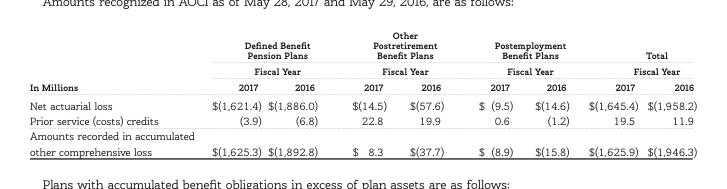table: (28, 28, 695, 157)
table column: (28, 28, 202, 157), (263, 28, 333, 157), (333, 28, 397, 157), (397, 28, 460, 157), (578, 28, 641, 157), (460, 28, 522, 157), (202, 28, 263, 157), (522, 28, 578, 157), (641, 28, 695, 157)
table column header: (28, 28, 695, 95)
table row: (28, 28, 695, 79), (28, 128, 695, 157), (28, 95, 695, 112), (28, 79, 695, 95), (28, 112, 695, 128)
table spanning cell: (28, 28, 202, 95), (202, 28, 333, 79), (333, 28, 460, 79), (460, 28, 578, 79), (578, 28, 695, 79)
